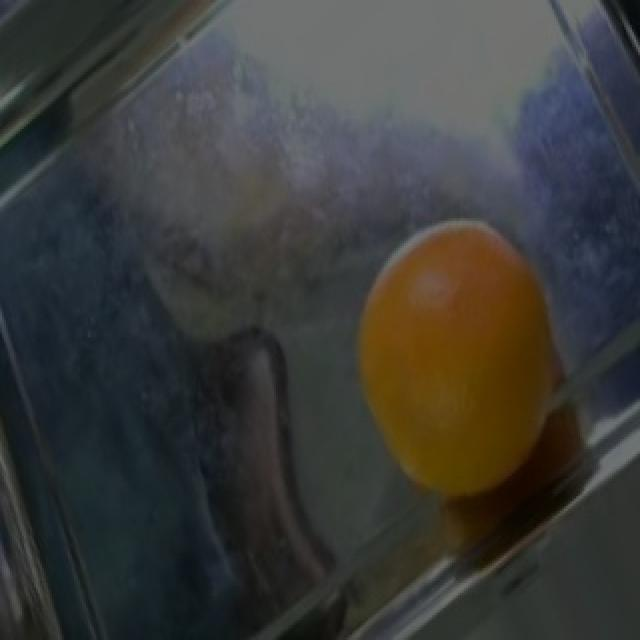Fruit: (332, 188, 586, 524)
